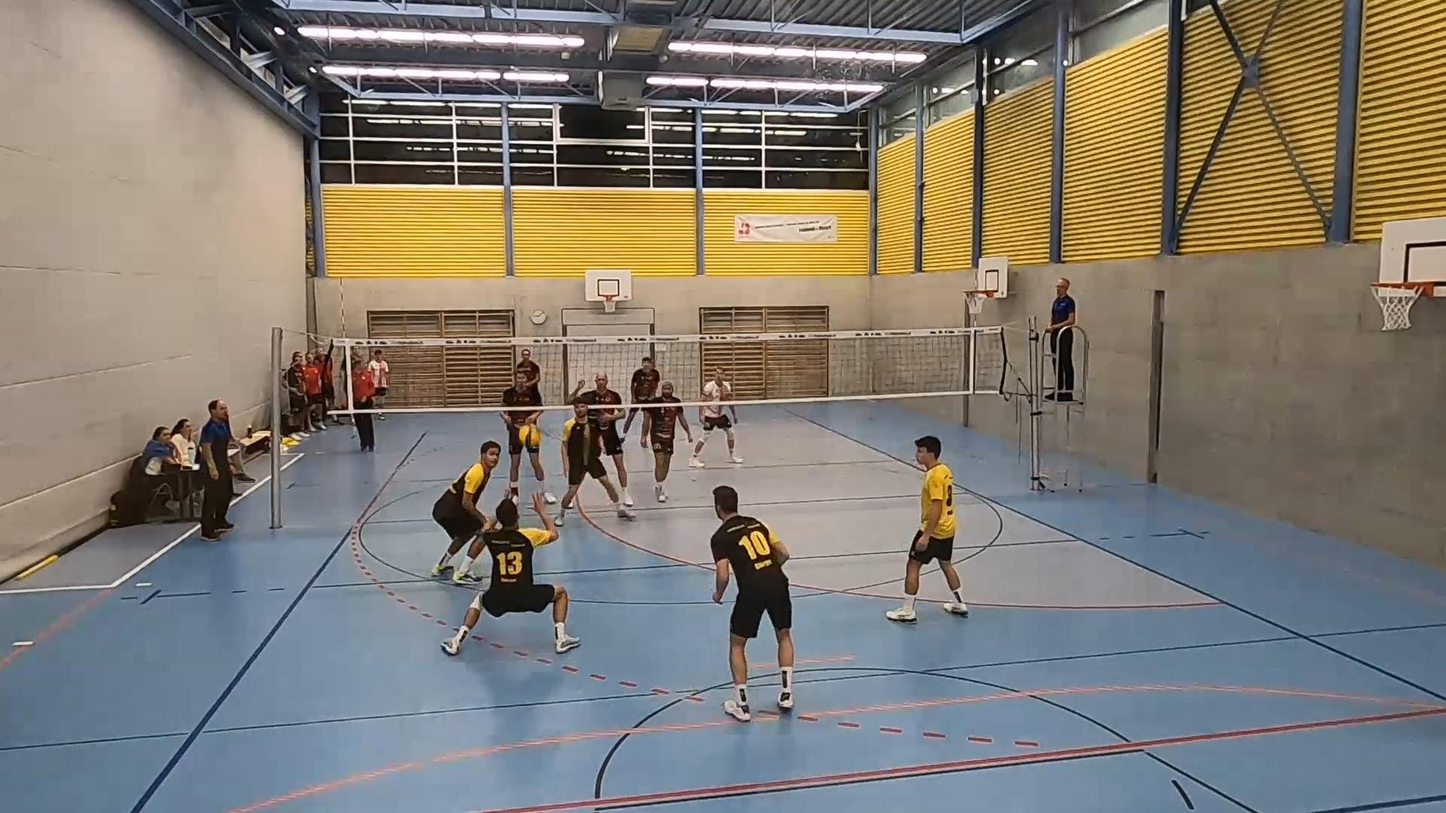Player: (710, 486, 794, 721), (886, 436, 968, 623), (432, 441, 499, 583), (557, 401, 633, 525), (571, 373, 633, 507), (502, 371, 555, 504), (642, 382, 691, 502), (689, 367, 742, 467), (622, 356, 660, 437), (515, 348, 541, 388)
Receive: (439, 489, 569, 663)
ball: (518, 423, 542, 448)
